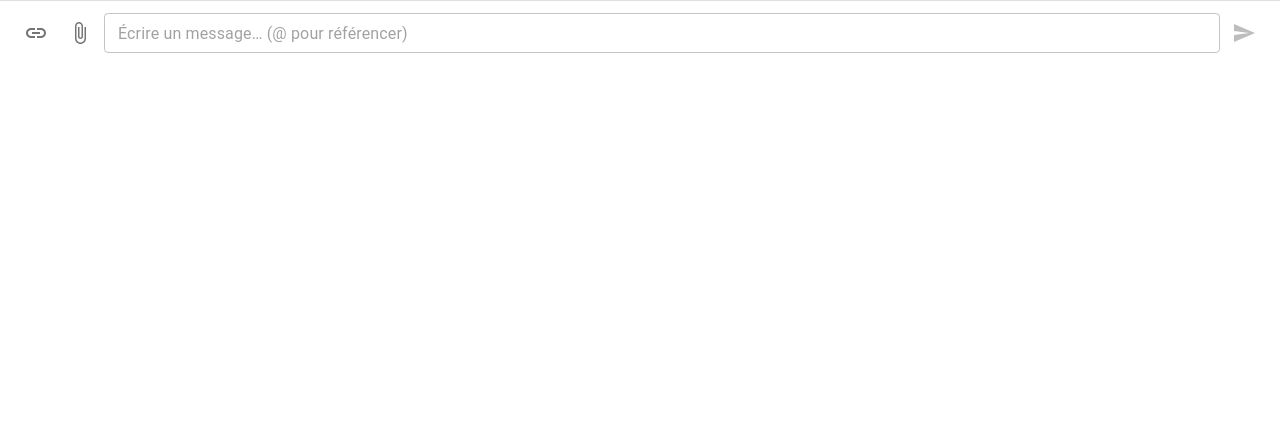
Test: MessageComposer › `@` ouvre le sélecteur, le texte qui suit filtre les campagnes, la sélection (campagne puis FSEC) attache une chip et retire `@query`
Type "Voir @al" into the text box named "Nouveau message". click: (662, 33)
box: 118,22 -> 1206,44
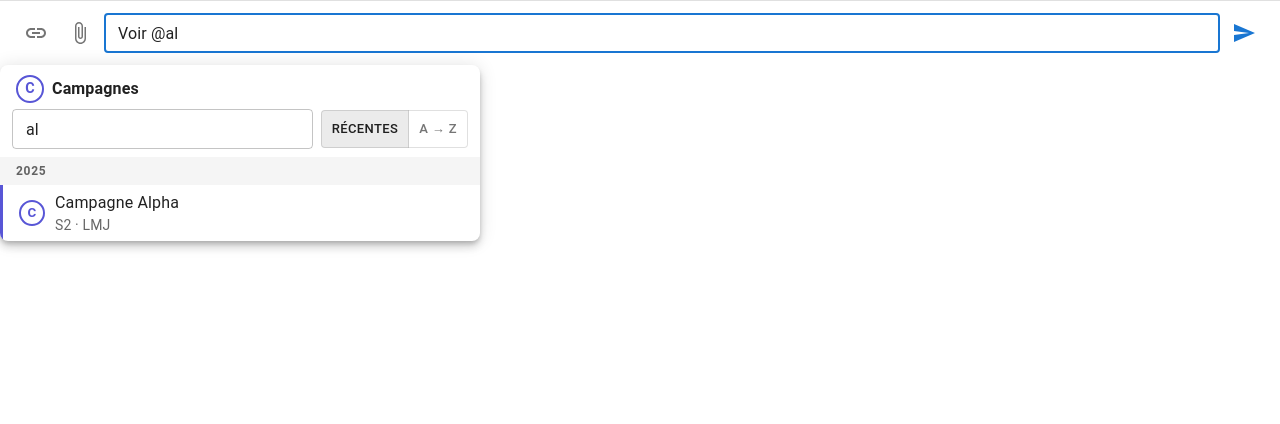
Now the menu item "C Campagne Alpha S2 · LMJ" is shown
Étape 2 : les FSEC de la campagne.
Click the menu item "C Campagne Alpha S2 · LMJ". click: (117, 202)
box: 0,185 -> 480,241
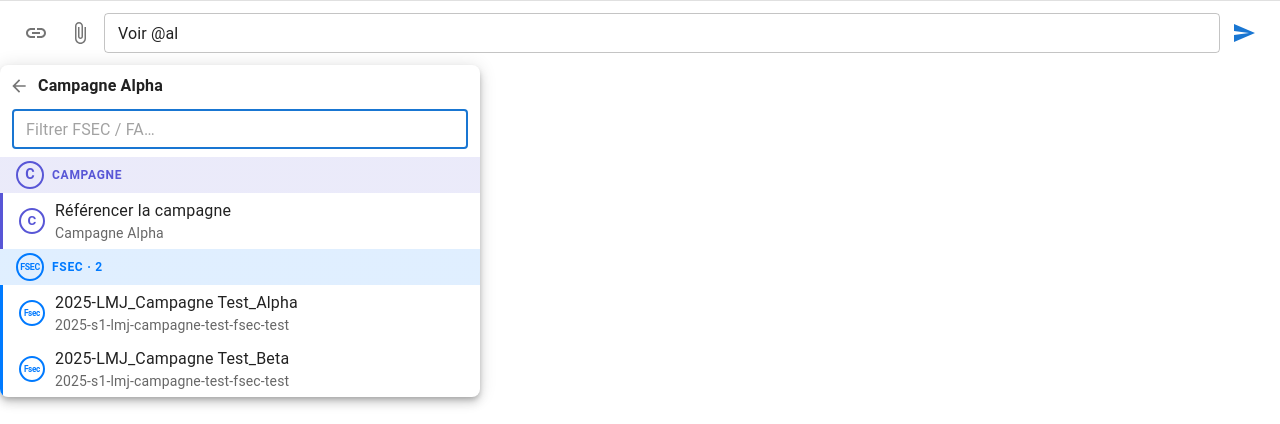
Now the 3rd menu item is shown, box 0,341 -> 480,397
Click the 2nd menu item. click: (240, 313)
box: 0,285 -> 480,341
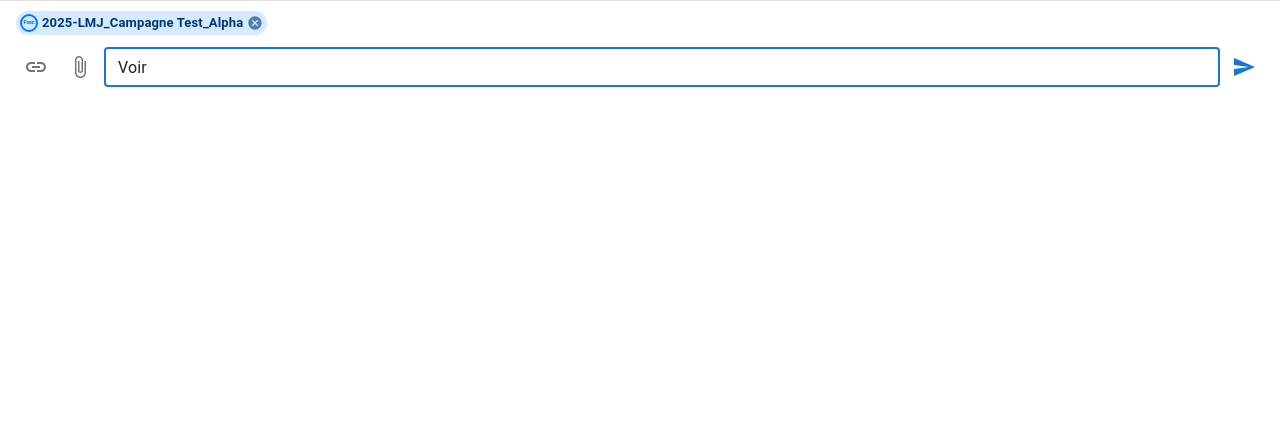
Now the element named "Références attachées" shows "Alpha", box 42,15 -> 243,30
Now the element with test id "entity-ref-picker" is gone
Now the text box named "Nouveau message" holds "Voir ", box 118,56 -> 1206,78
